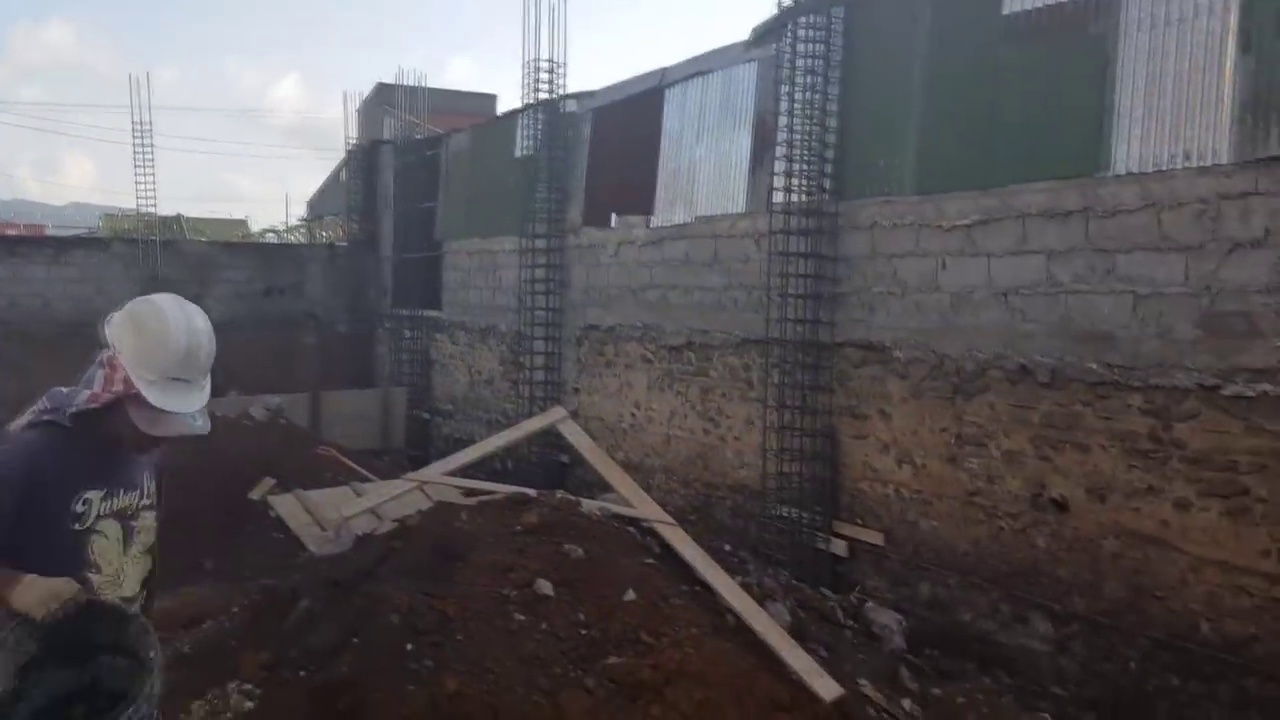helmet: (96, 299, 205, 403)
helmet-on: (62, 297, 214, 466)
person: (3, 282, 222, 714)
